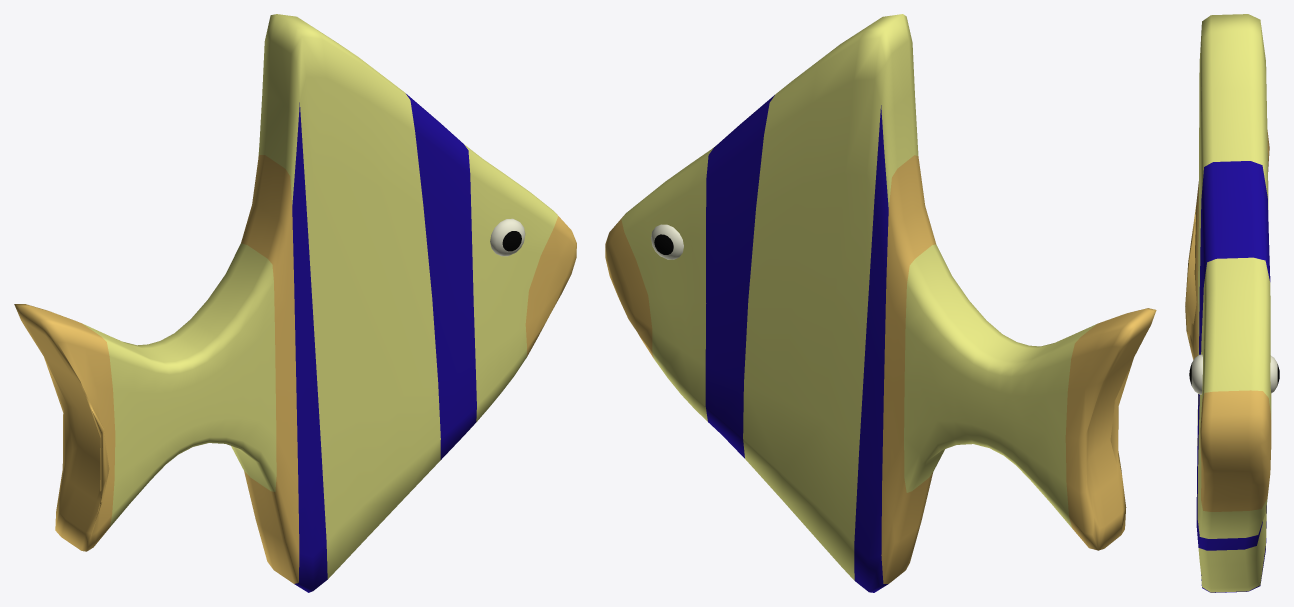
File: Yellow Fish.fbx
3 views of the same model, side by side, from view 1: azimuth 30°, elevation 25°; view 2: azimuth 150°, elevation 25°; view 3: azimuth 270°, elevation 25° (orthographic).
Visible parts, largest first — view 1: Yellow Fish; view 2: Yellow Fish; view 3: Yellow Fish.
Boxes of the visible parts, x1,y1,x2,y2 form: Yellow Fish: (14, 14, 576, 592); Yellow Fish: (605, 14, 1156, 592); Yellow Fish: (1185, 14, 1279, 592).
Size of the model in its own units: 0.828 by 0.8465 by 0.1269.
